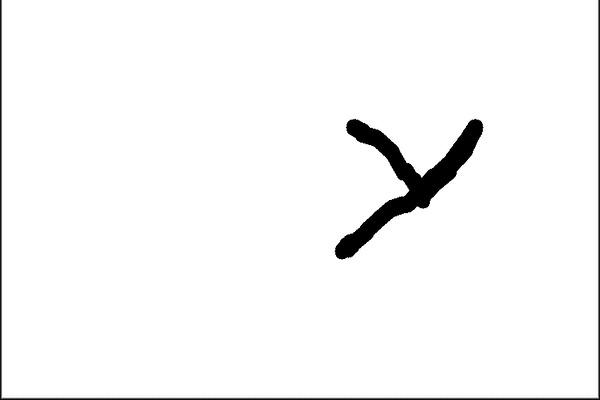Y: (322, 105, 494, 270)
